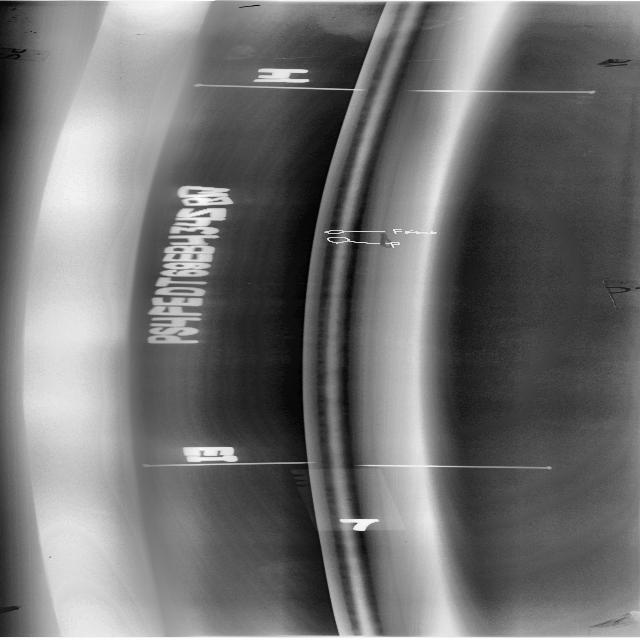porosity: (333, 239, 341, 241), (331, 231, 338, 233)
